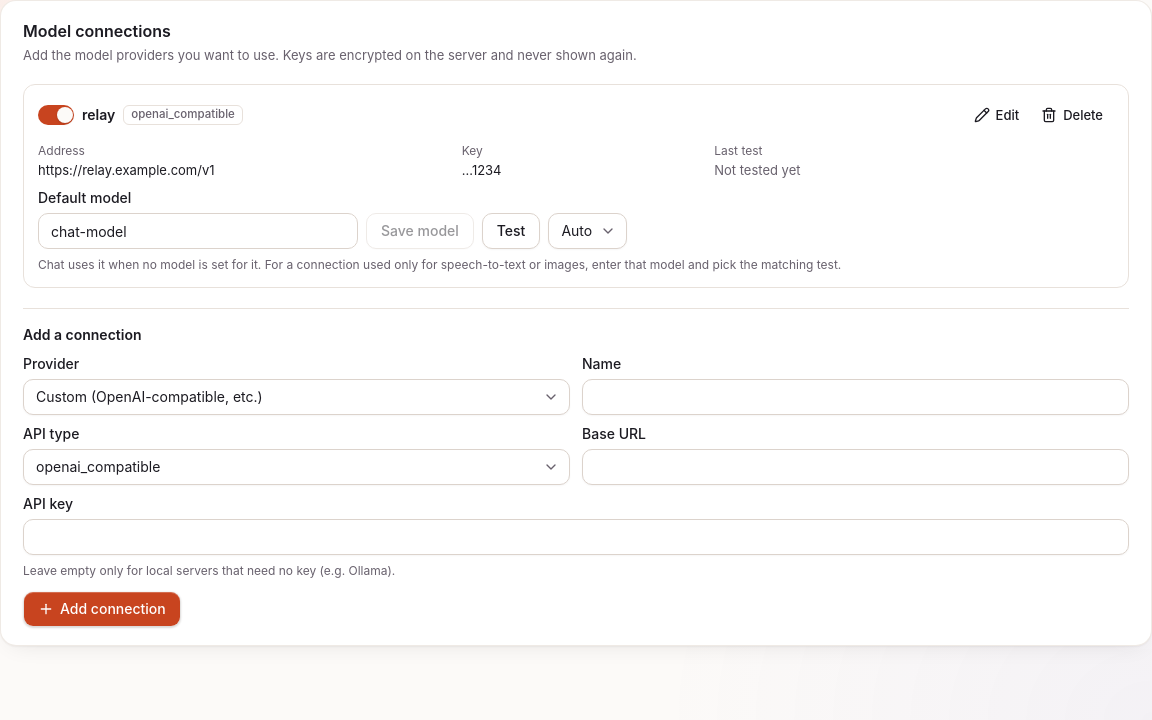
it: ConnectionsSection › tests a model as realtime voice when asked to
Step 1. Replace the text in the dropdown labelled "Default model" with "gpt-realtime-2.1" → [198, 231], box x1=38 y1=213 x2=358 y2=249
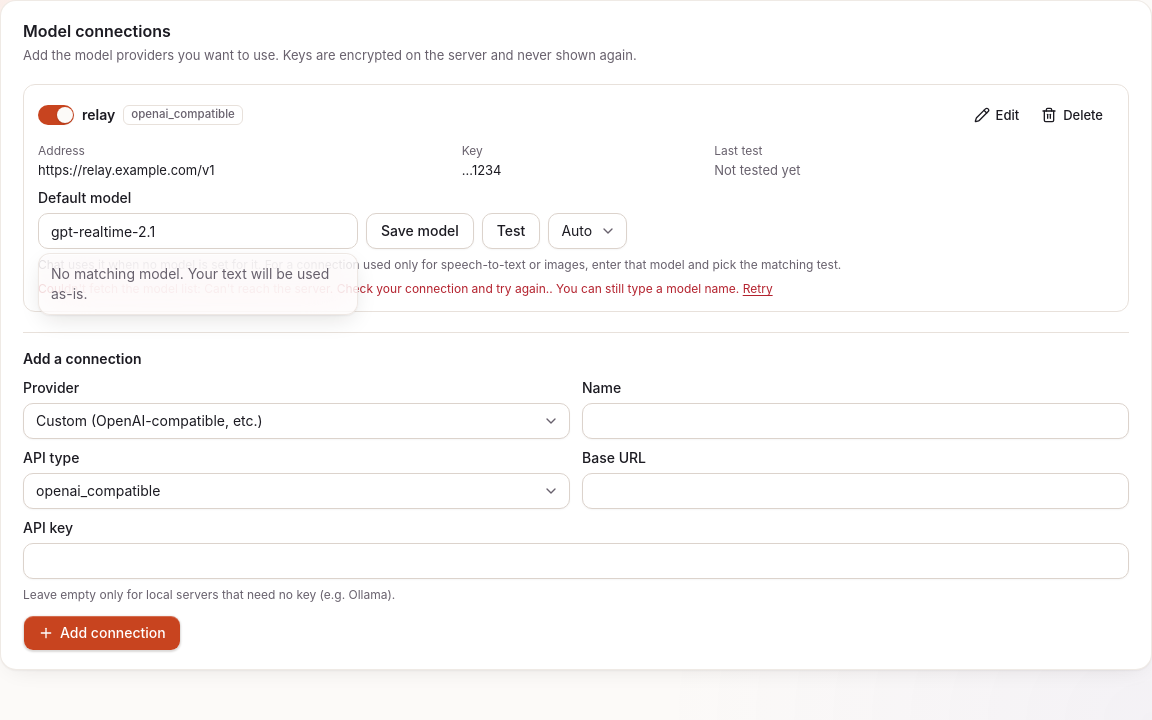
Step 2. Press Escape
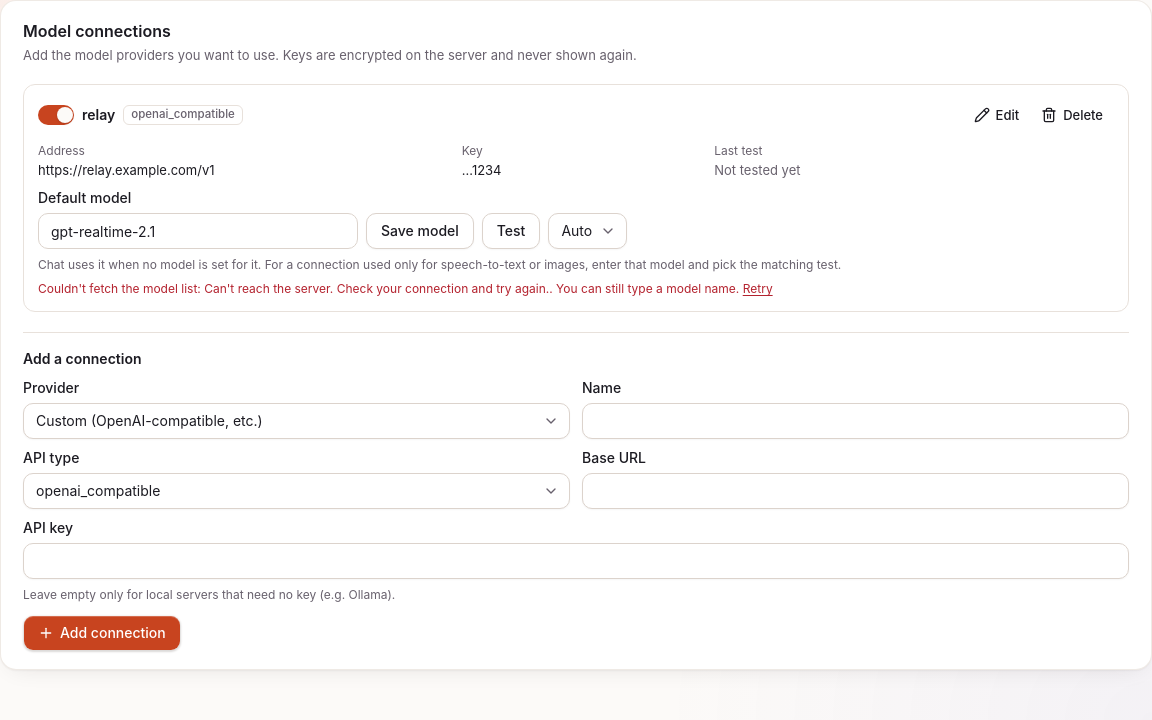
Step 3. Click the dropdown named "Test as" → [588, 231], box x1=548 y1=213 x2=627 y2=249
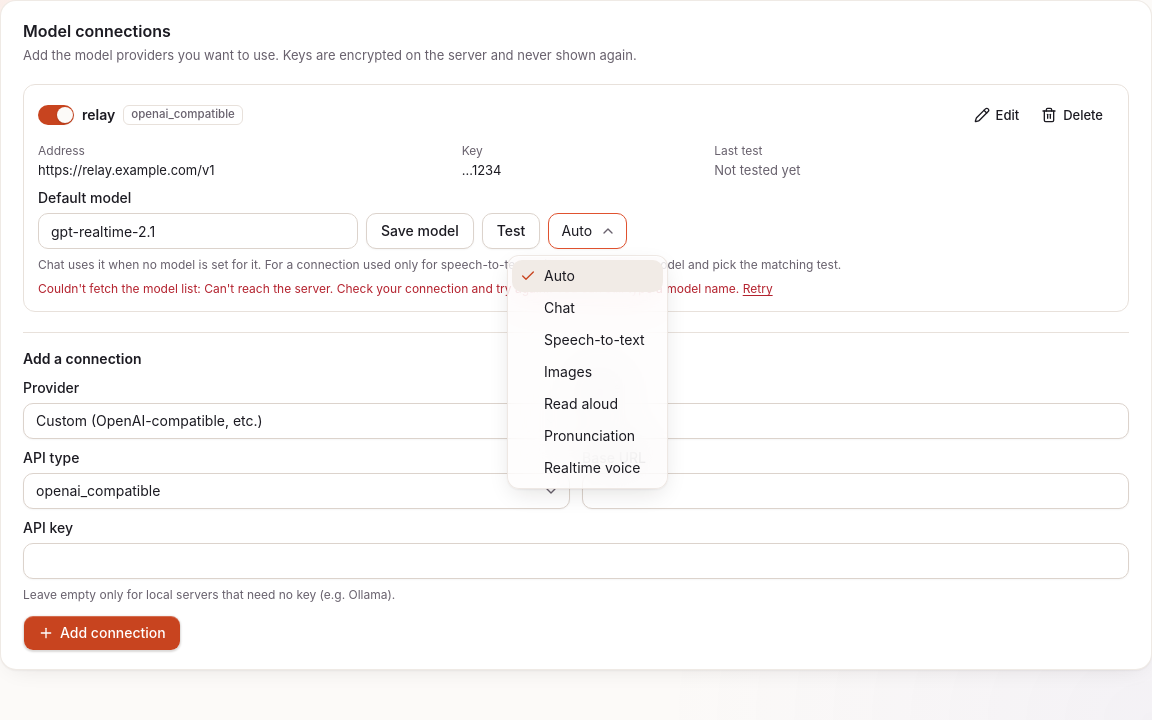
Step 4. Click the option "Realtime voice" → [592, 468], box x1=544 y1=459 x2=640 y2=476
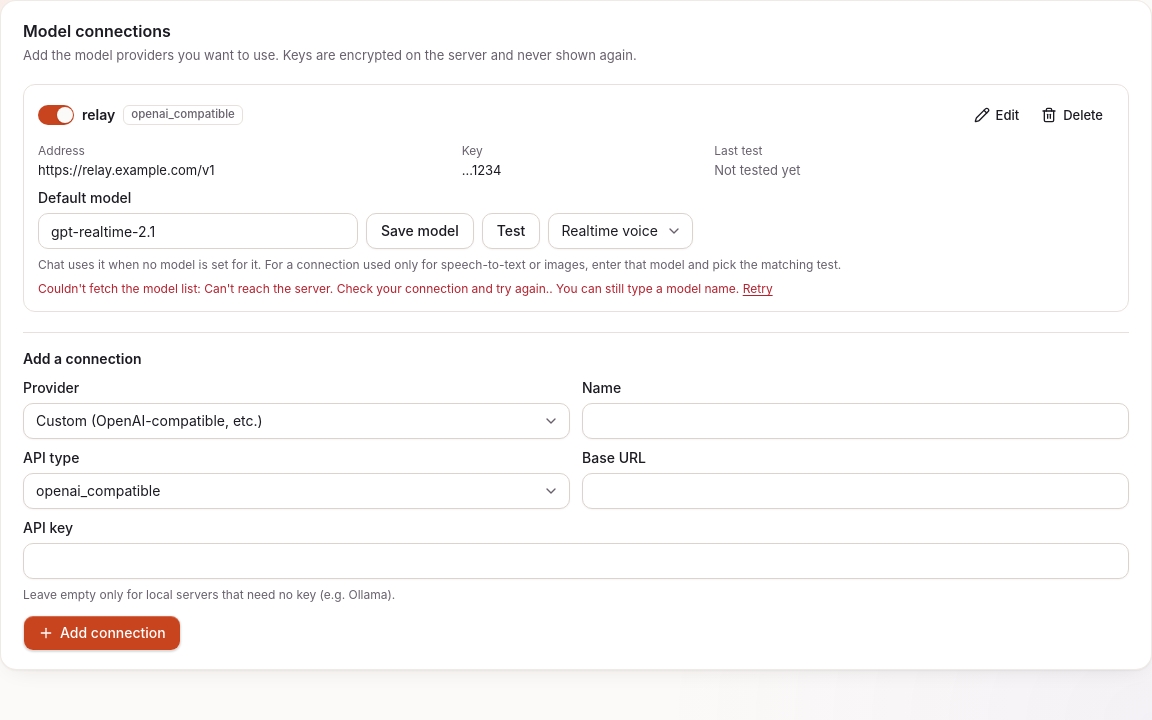
Step 5. Click the button "Test" → [511, 231], box x1=482 y1=213 x2=540 y2=249
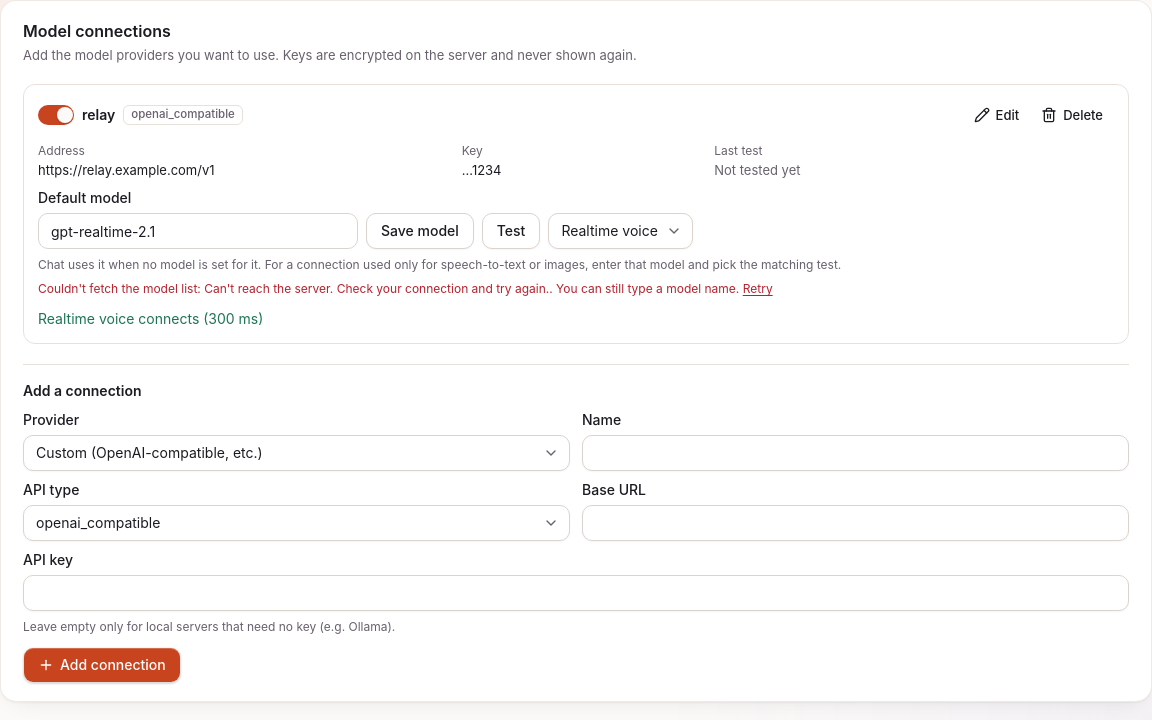
Result: the list item with test id "connection-relay" shows "Realtime voice connects (300 ms)" at x1=38 y1=310 x2=263 y2=327
